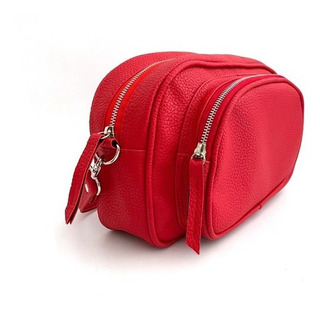cartera: (62, 49, 307, 256)
